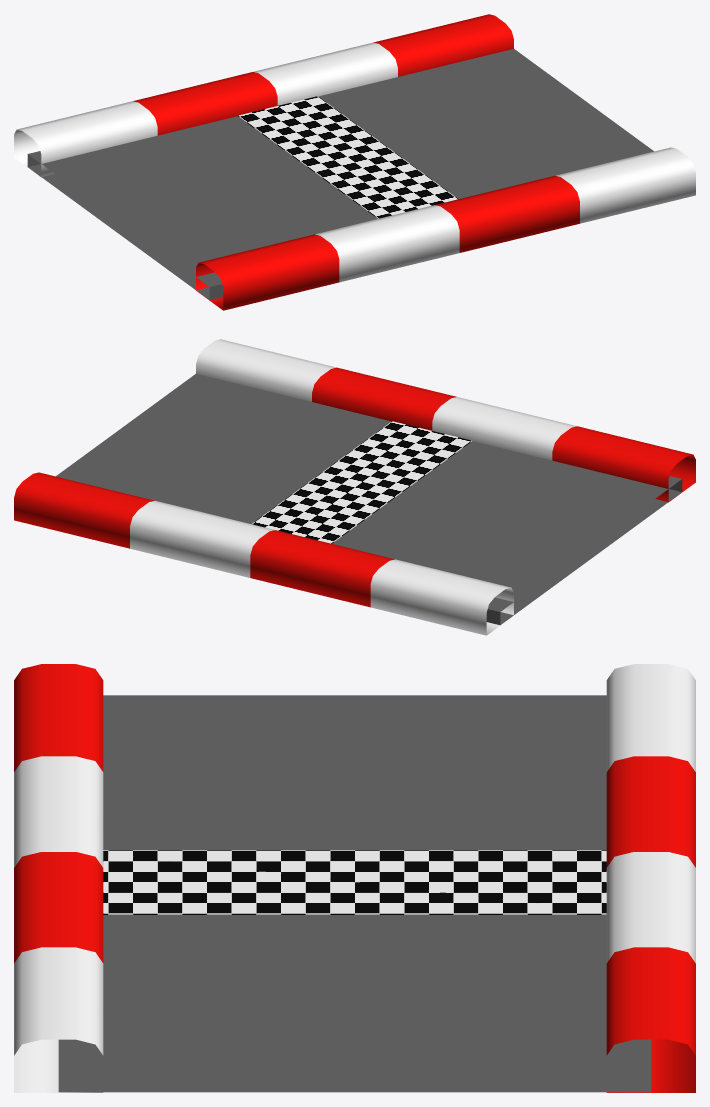
File: BeginTrack01.fbx
3 views of the same model, one above another, from view 1: azimuth 30°, elevation 25°; view 2: azimuth 150°, elevation 25°; view 3: azimuth 270°, elevation 25° (orthographic). The views are drawn at different scales.
Visible parts, largest first — view 1: BeginTrack01; view 2: BeginTrack01; view 3: BeginTrack01.
Part boxes in pixels (x1,y1,x2,y2): BeginTrack01: (14, 14, 695, 310); BeginTrack01: (14, 339, 695, 635); BeginTrack01: (14, 664, 695, 1092).
Bounding box in the file's own units: 2700 × 178 × 2072.
